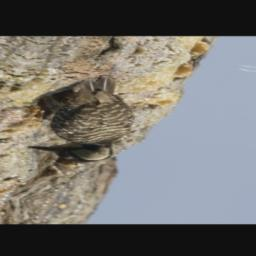Woodpecker: (0, 66, 166, 167)
